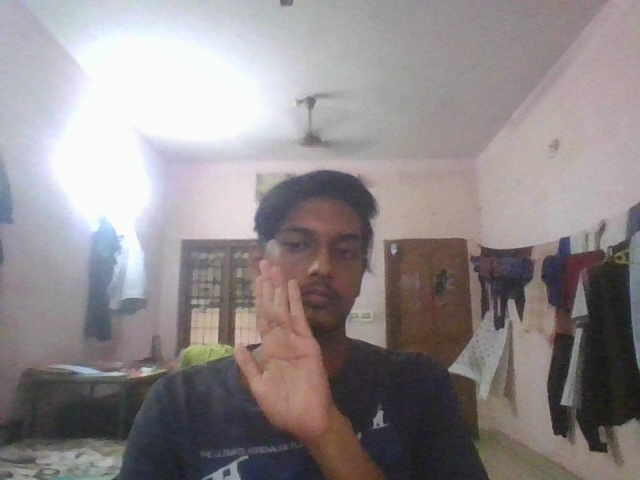hello: (226, 256, 333, 439)
